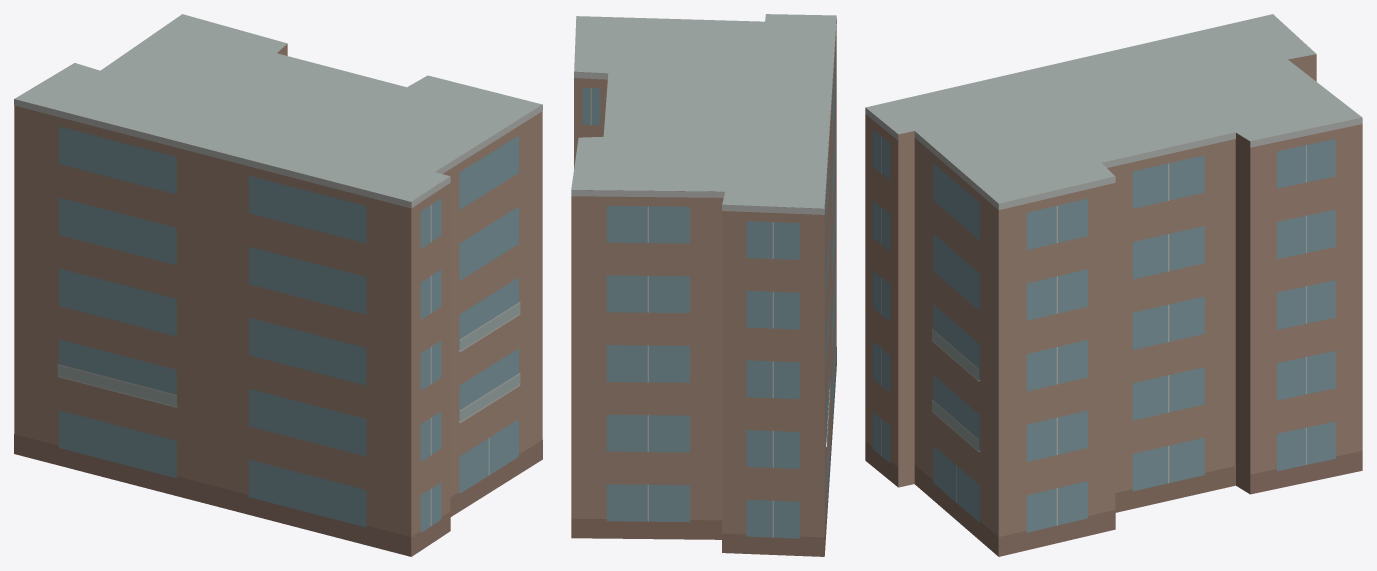
The model's file is survey-upis-32893300.glb.
The picture shows the model from 3 angles, left to right: view 1: azimuth 30°, elevation 25°; view 2: azimuth 150°, elevation 25°; view 3: azimuth 270°, elevation 25°; orthographic projection.
Parts seen in each view (by area): view 1: survey-upis-32893300.tmp; view 2: survey-upis-32893300.tmp; view 3: survey-upis-32893300.tmp.
Boxes of the visible parts, x1,y1,x2,y2 form: survey-upis-32893300.tmp: (14, 14, 542, 556); survey-upis-32893300.tmp: (571, 14, 836, 556); survey-upis-32893300.tmp: (865, 14, 1362, 556).
Bounding box in the file's own units: 15.45 × 13.4 × 17.11.
